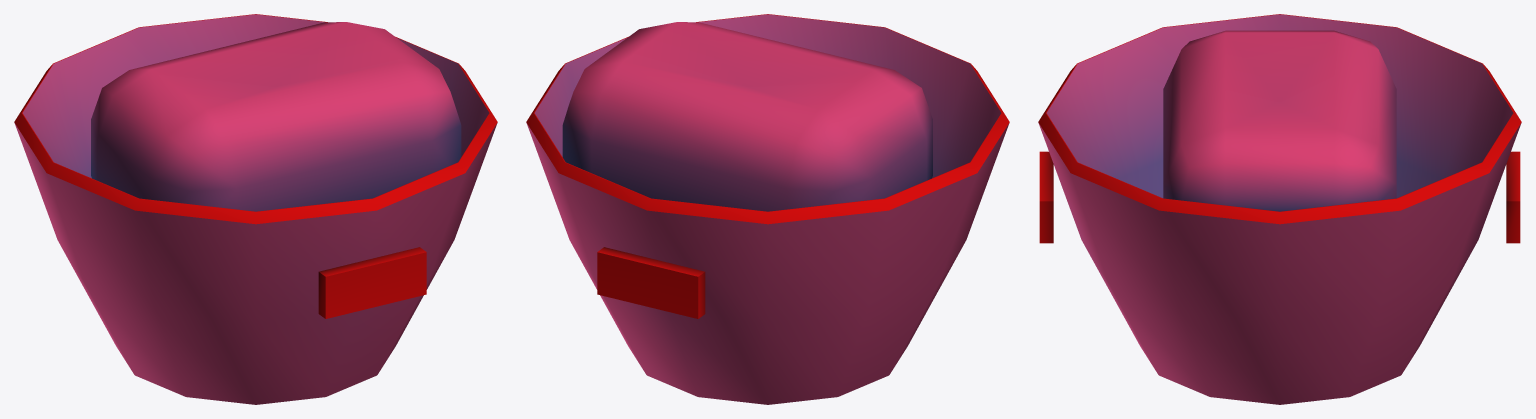
The model's file is CI_Decor_Basket_Open.glb.
3 views of the same model, side by side, from view 1: azimuth 30°, elevation 25°; view 2: azimuth 150°, elevation 25°; view 3: azimuth 270°, elevation 25° (orthographic).
Visible parts, largest first — view 1: CI_Decor_Basket_Open; view 2: CI_Decor_Basket_Open; view 3: CI_Decor_Basket_Open.
Part boxes in pixels (<box>): CI_Decor_Basket_Open: <box>14,14,497,404</box>; CI_Decor_Basket_Open: <box>526,14,1009,404</box>; CI_Decor_Basket_Open: <box>1038,14,1521,404</box>.
Size of the model in its own units: 0.4143 by 0.26 by 0.4143.
